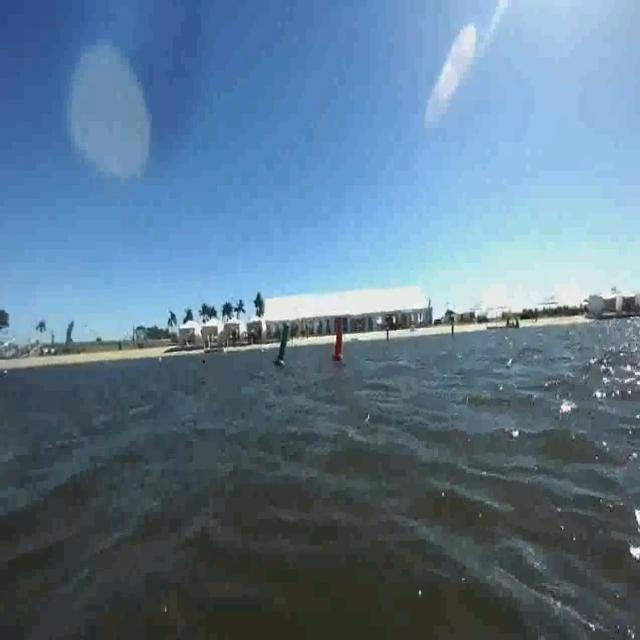green-column-buoy: (273, 322, 292, 368)
red-column-buoy: (332, 319, 348, 364)
